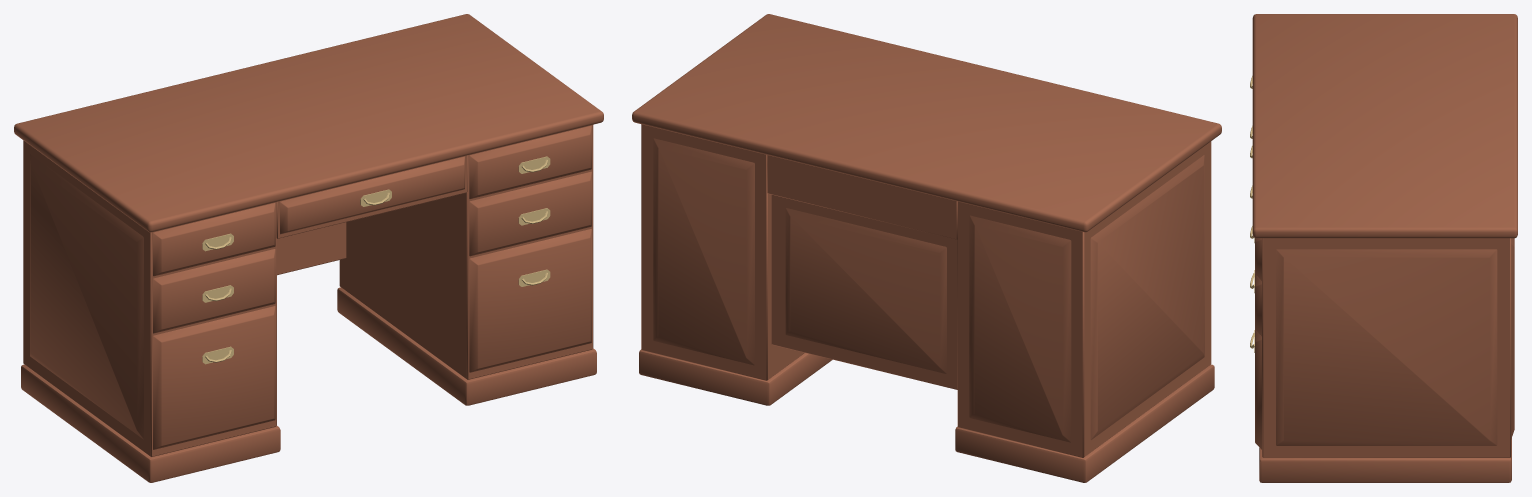
Rendered from Kit_DeskPedestal.fbx.
3 views of the same model, side by side, from view 1: azimuth 30°, elevation 25°; view 2: azimuth 150°, elevation 25°; view 3: azimuth 270°, elevation 25° (orthographic). The views are drawn at different scales.
Visible parts, largest first — view 1: Kit_DeskPedestal_LOD0; view 2: Kit_DeskPedestal_LOD0; view 3: Kit_DeskPedestal_LOD0.
Part boxes in pixels (left/top/right/bottom): Kit_DeskPedestal_LOD0: left=14, top=14, right=603, bottom=482; Kit_DeskPedestal_LOD0: left=632, top=14, right=1221, bottom=482; Kit_DeskPedestal_LOD0: left=1250, top=14, right=1517, bottom=482.
Size of what is drawn, in the model's own units: 1.37 by 0.76 by 0.7172.
